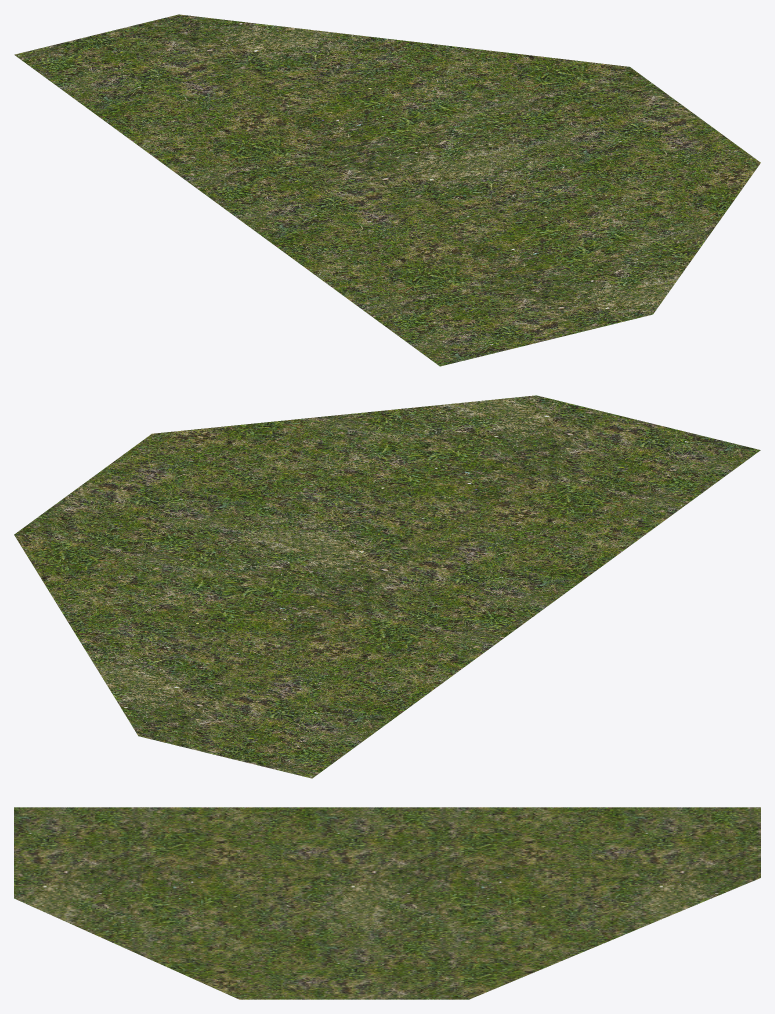
Rendered from GrassPatch01.fbx.
3 views of the same model, one above another, from view 1: azimuth 30°, elevation 25°; view 2: azimuth 150°, elevation 25°; view 3: azimuth 270°, elevation 25° (orthographic). The views are drawn at different scales.
Parts seen in each view (by area): view 1: Plane; view 2: Plane; view 3: Plane.
Part boxes in pixels (left/top/right/bottom): Plane: left=14, top=14, right=760, bottom=366; Plane: left=14, top=395, right=760, bottom=778; Plane: left=14, top=807, right=760, bottom=999.
Bounding box in the file's own units: 3.96 × 8.31e-15 × 6.51.
